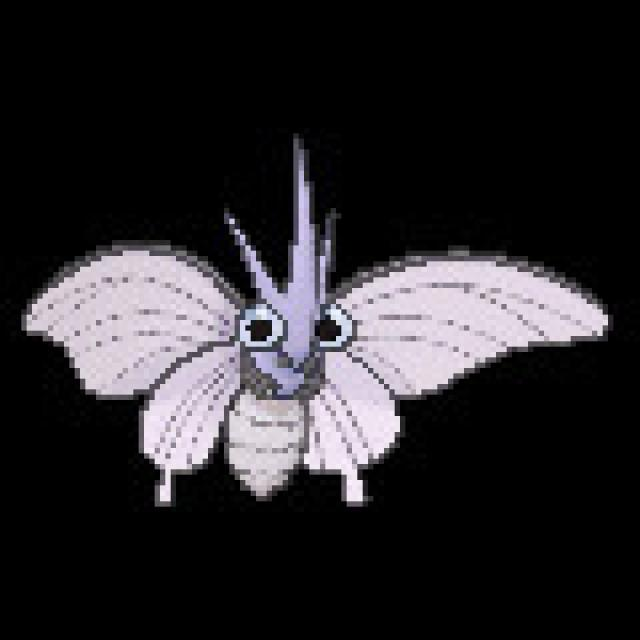Venomoth: (0, 129, 640, 576)
